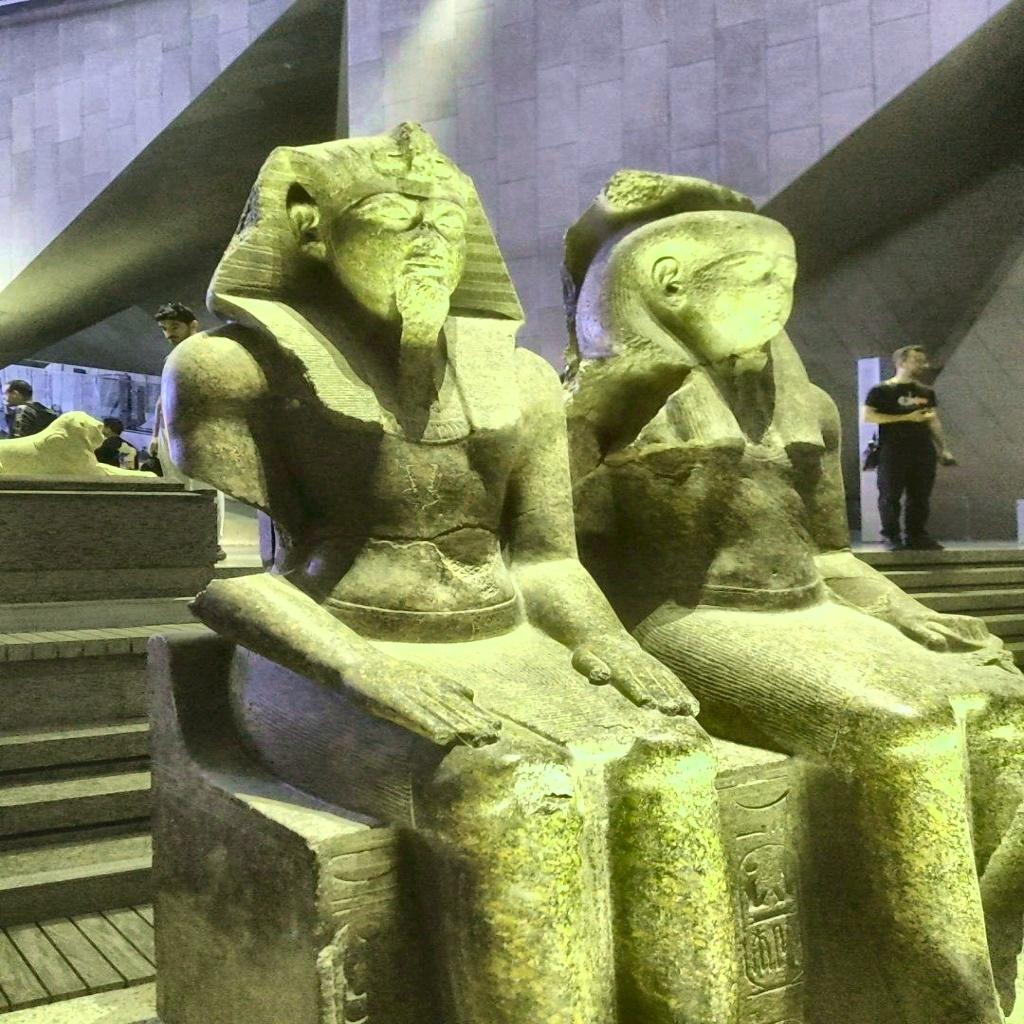Seated Statue of Ramesses II and God Ptah: (150, 104, 1024, 1022)
